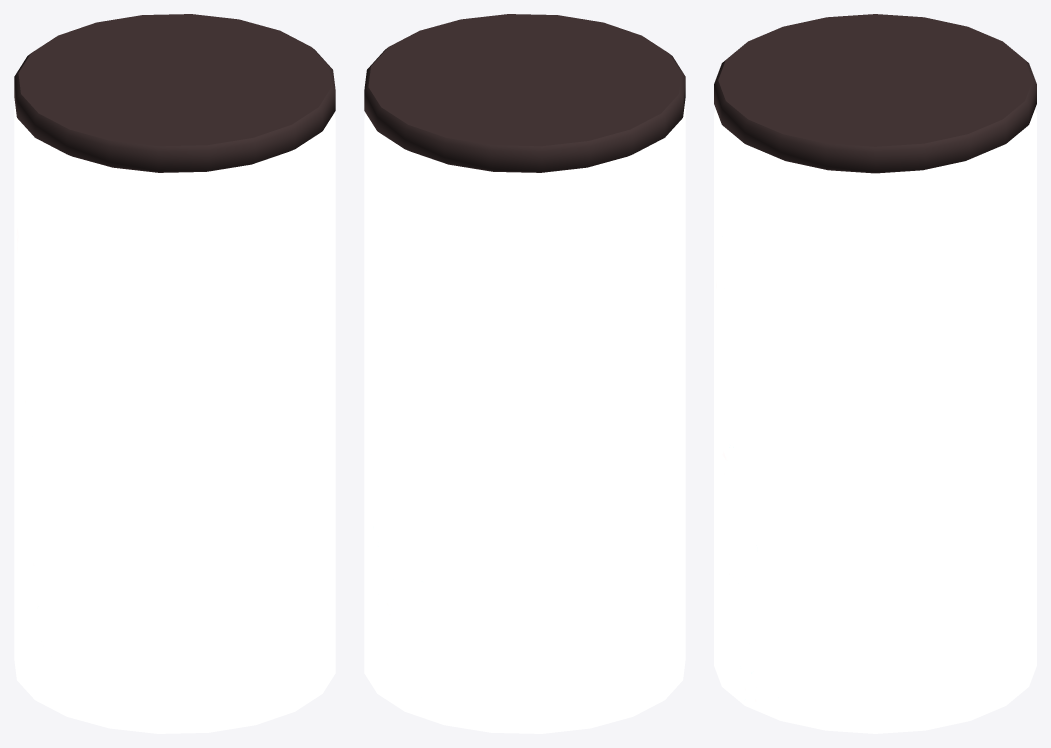
Rendered from 008_pillar_var4.glb.
3 views of the same model, side by side, from view 1: azimuth 30°, elevation 25°; view 2: azimuth 150°, elevation 25°; view 3: azimuth 270°, elevation 25° (orthographic).
Parts seen in each view (by area): view 1: pillar; view 2: pillar; view 3: pillar.
Boxes of the visible parts, x1,y1,x2,y2 form: pillar: [14, 14, 335, 733]; pillar: [364, 14, 685, 733]; pillar: [714, 14, 1036, 733].
Size of the model in its own units: 0.75 by 1.5 by 0.75.
2 materials, 1 textured.
